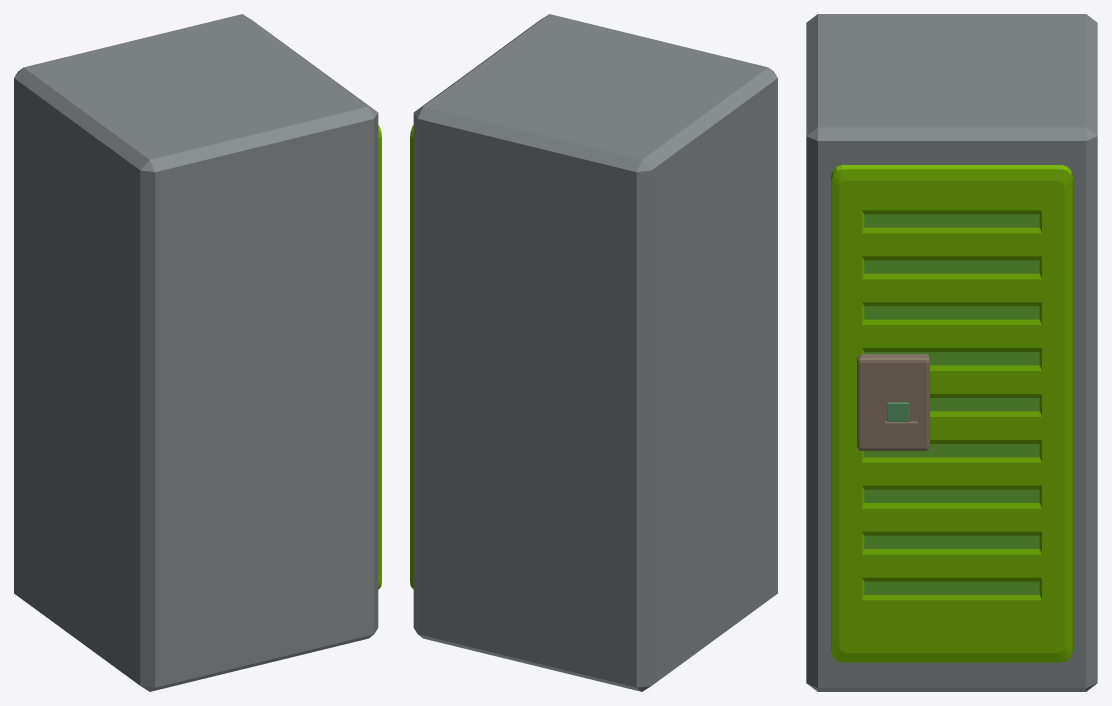
File: toilet.fbx
3 views of the same model, side by side, from view 1: azimuth 30°, elevation 25°; view 2: azimuth 150°, elevation 25°; view 3: azimuth 270°, elevation 25° (orthographic). The views are drawn at different scales.
Visible parts, largest first — view 1: Cube, 立方体; view 2: Cube, 立方体; view 3: 立方体, Cube, 立方体.001.
Boxes of the visible parts, x1,y1,x2,y2 form: Cube: [14, 14, 378, 691]; 立方体: [378, 125, 381, 589]; Cube: [413, 14, 777, 691]; 立方体: [410, 125, 413, 589]; 立方体: [831, 165, 1072, 662]; Cube: [806, 14, 1097, 691]; 立方体.001: [857, 354, 929, 450].
Bounding box in the file's own units: 87.26 × 171 × 80.
